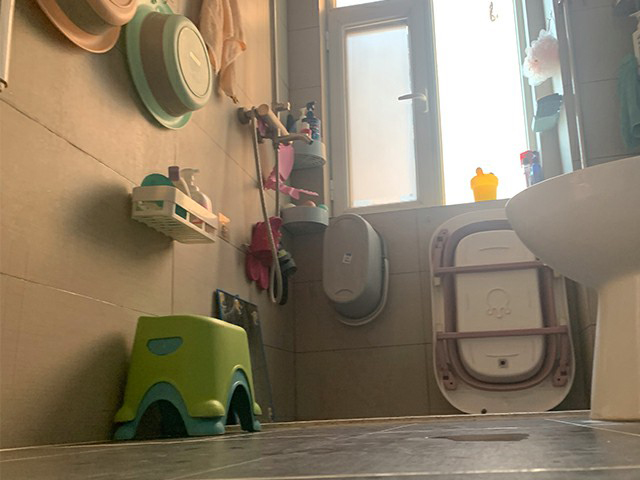closestool: (504, 153, 640, 423)
stool: (113, 313, 264, 441)
